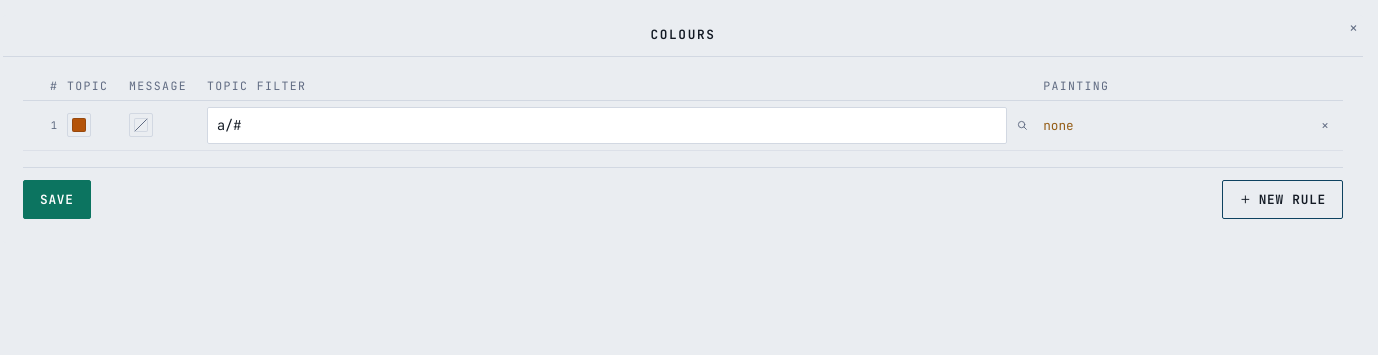
Test: ColoursPanel › a rule that cannot be saved › refuses two rules on the same filter
expect the number of elements with test id "colour-rule" is 1: met, box [23,101,1343,151]
Click the button "New rule" at (1282, 200), box [1222,180,1343,219]
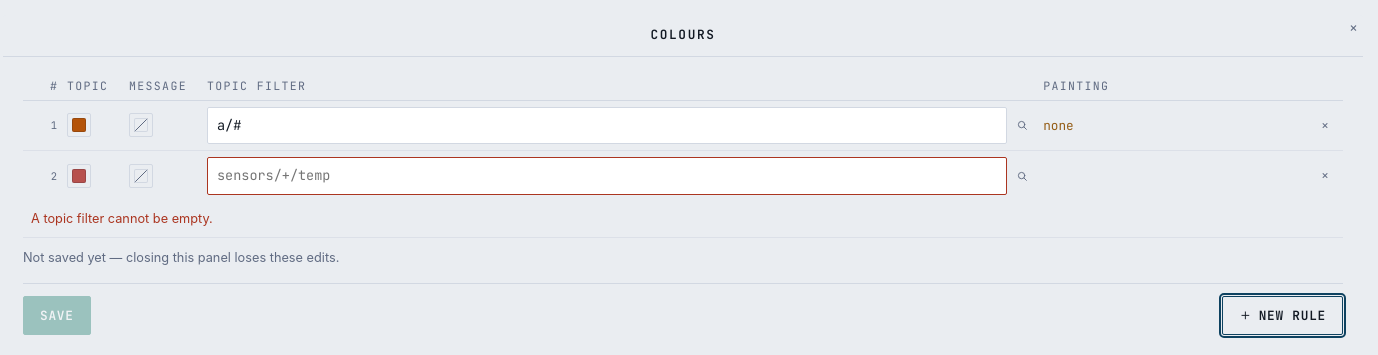
Type "a/#" into the field with placeholder "sensors/+/temp" at (607, 176), box [207,157,1007,195]
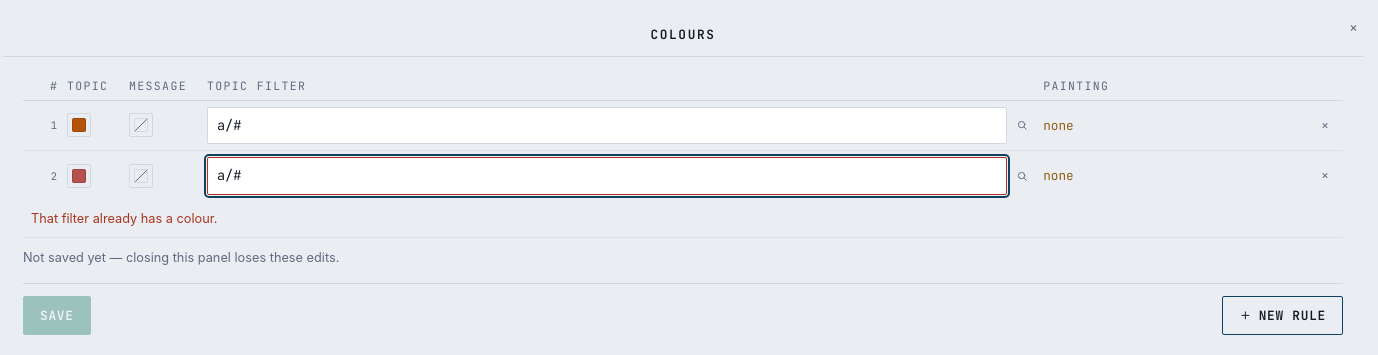
expect the button "Save" is disabled: met, box [23,296,91,335]
expect the text "That filter already has a colour." is shown: met, box [31,211,218,226]
